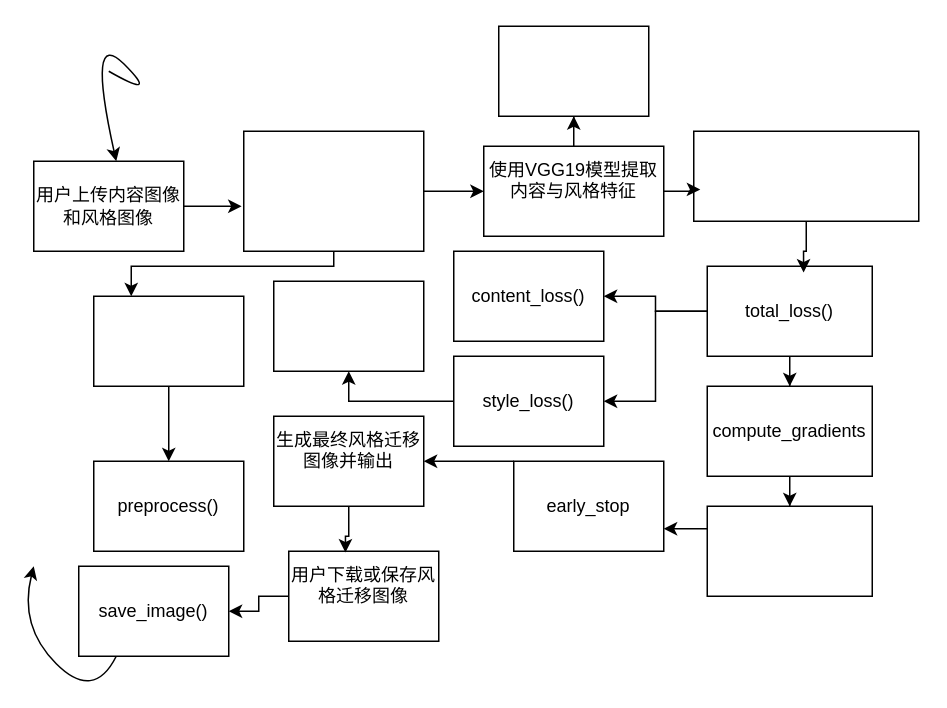
This 947x708 diagram has some shape labels left out. The shapes that lost their labels are listed below. From the top down, each one's box as (x1, y1, x2, y2) in pixels, then its label:
(497, 25, 649, 116): get_model()
(242, 130, 424, 251): 对图像进行预处理（尺寸调整、 色彩格式转换、归一化处理）
(692, 130, 919, 221): 计算内容损失与风格损失并进行优化,生成风格迁移图像
(92, 295, 244, 386): ImageProcessor
(272, 280, 424, 371): gram_matrix()
(706, 505, 872, 596): run_style_transfer()
